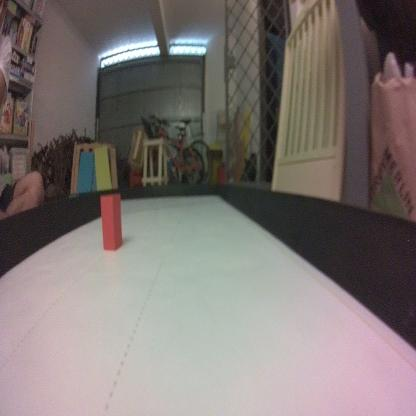red: (99, 192, 123, 253)
